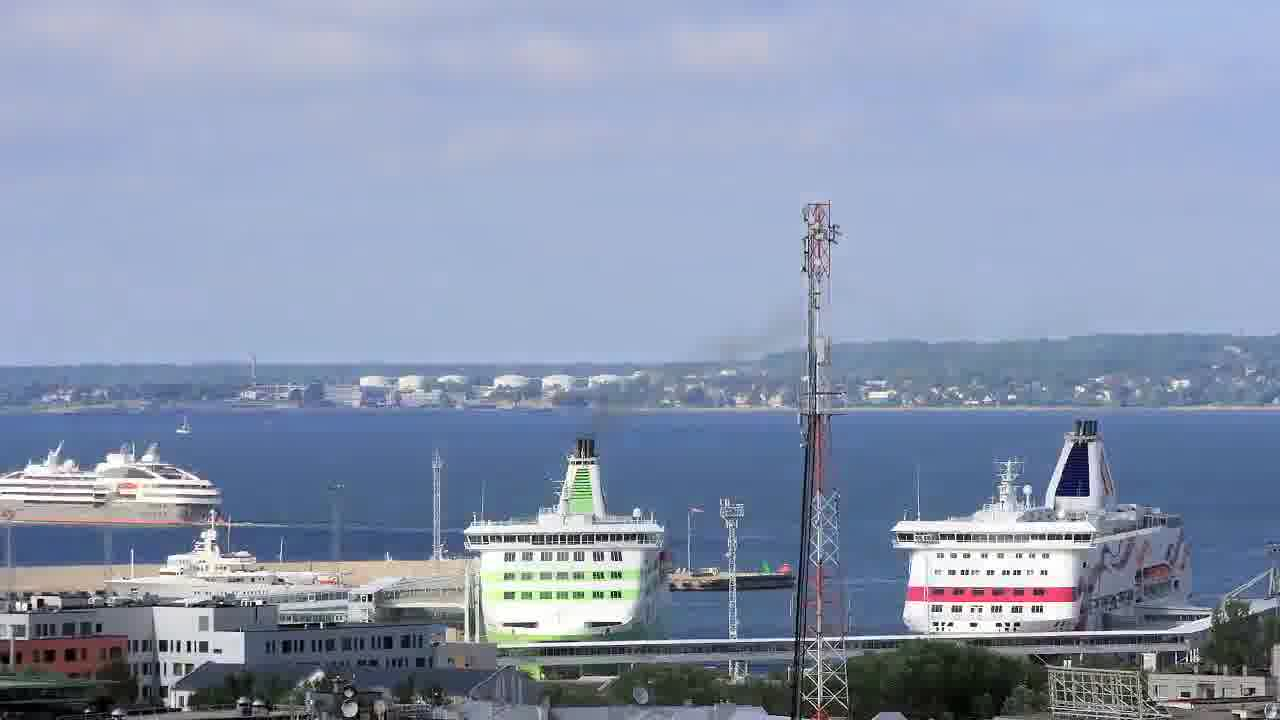type-2: (161, 397, 203, 446)
type-3: (868, 415, 1225, 638), (436, 434, 694, 670), (84, 511, 353, 609), (1, 448, 222, 543)
